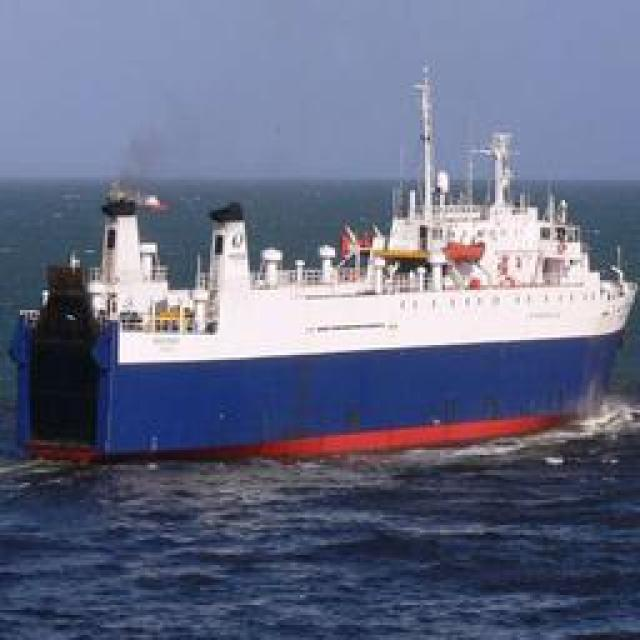CIV_Ship: (44, 89, 628, 466)
